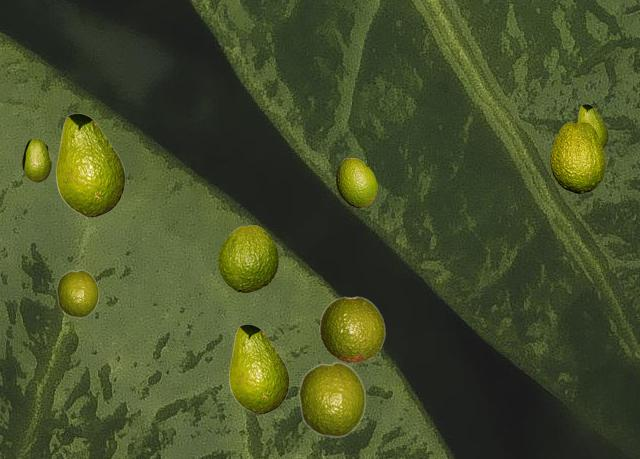avocado: (56, 113, 124, 216), (229, 324, 288, 413), (298, 361, 365, 437), (319, 296, 385, 362), (218, 225, 277, 291), (550, 121, 604, 192), (56, 269, 98, 317), (336, 158, 376, 206), (577, 104, 607, 148), (22, 138, 50, 181)
